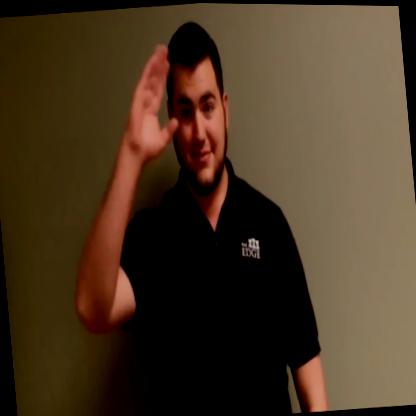Hello: (116, 18, 244, 227)
